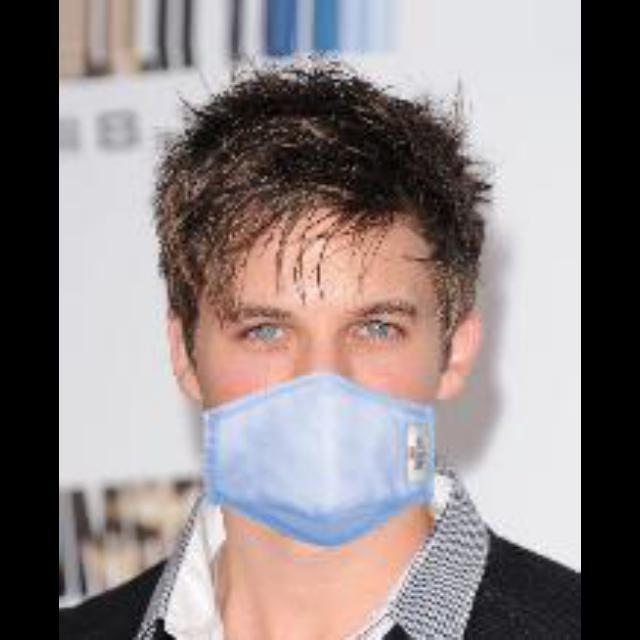suspicion: (120, 97, 498, 513)
